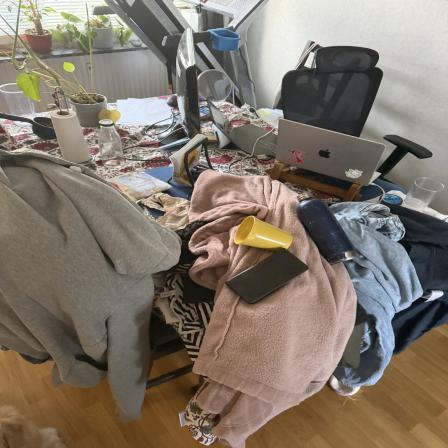blue_bottle: (290, 189, 364, 264)
phone: (229, 250, 308, 298)
yellow_cup: (236, 215, 297, 250)
